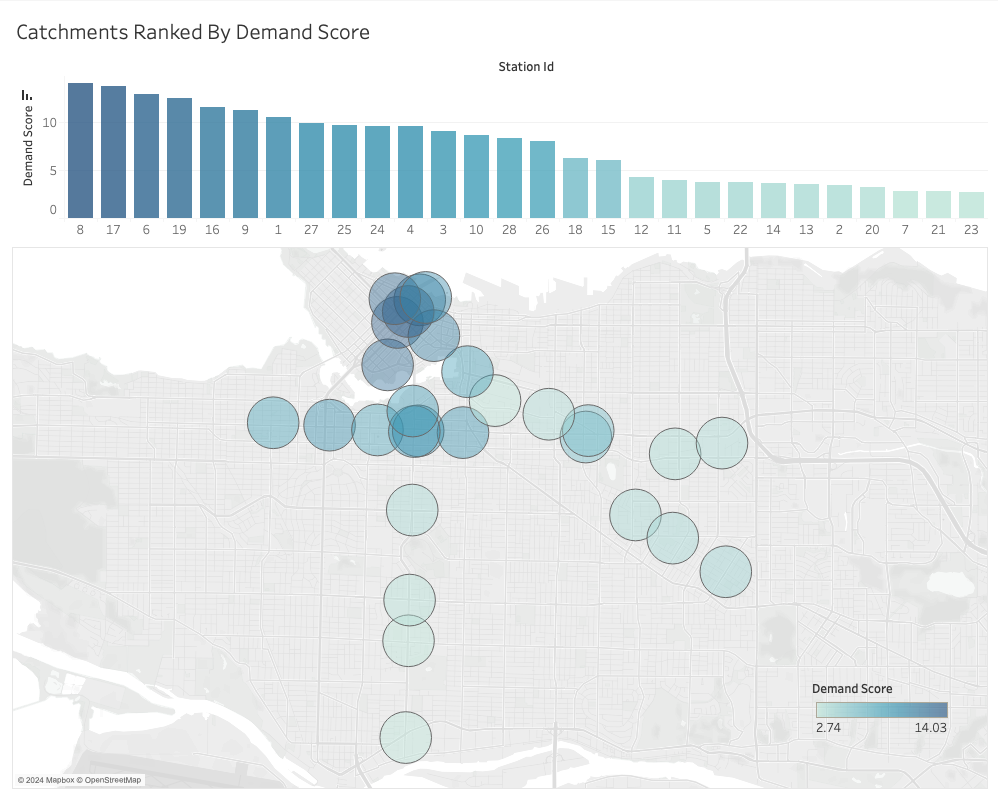

The page's visual inventory and layout, read from the dashboard file:
{"tool":"tableau","page":{"name":"demand/score","canvas":[1000,800],"ordinal":6},"visuals":[{"type":"worksheet","title":"demand/score/bar","mark":"Automatic","rows":["demand_score"],"cols":["station_id"],"box":[8,8,984,234]},{"type":"worksheet","title":"demand/score/map","mark":"Automatic","box":[8,242,984,550]},{"type":"legend","title":"demand/score/map","param":"[federated.0n6ikrm166ubo61fsp34o12b251j].[sum:demand_score:qk]","box":[812,679,140,76]}]}

Visuals, with their boxes in screenshot pixels (x1, y1, x2, y2), scaled from the page's 1000x800 canvas onto the 998x800 screenshot:
"demand/score/bar" worksheet: {"x1": 8, "y1": 8, "x2": 990, "y2": 242}
"demand/score/map" worksheet: {"x1": 8, "y1": 242, "x2": 990, "y2": 792}
"demand/score/map" legend: {"x1": 810, "y1": 679, "x2": 950, "y2": 755}
